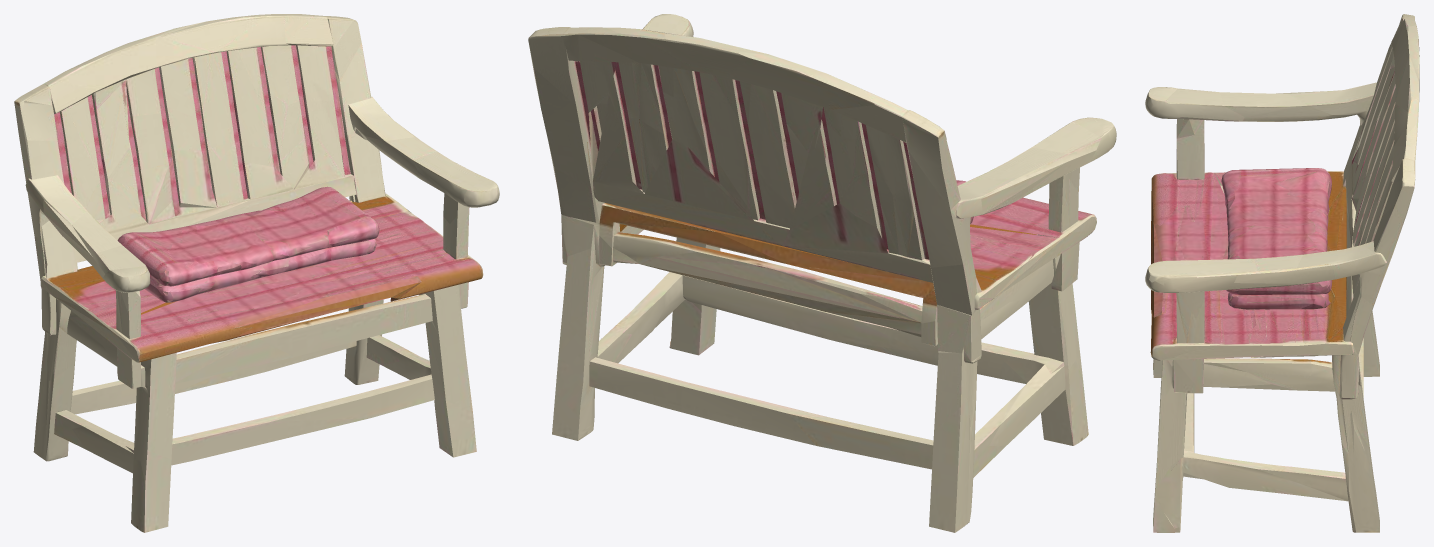
The model's file is bench.glb.
3 views of the same model, side by side, from view 1: azimuth 30°, elevation 25°; view 2: azimuth 150°, elevation 25°; view 3: azimuth 270°, elevation 25° (orthographic). The views are drawn at different scales.
Size of the model in its own units: 1.9 by 1.77 by 1.15.
Materials: 1 (1 with a texture image).
